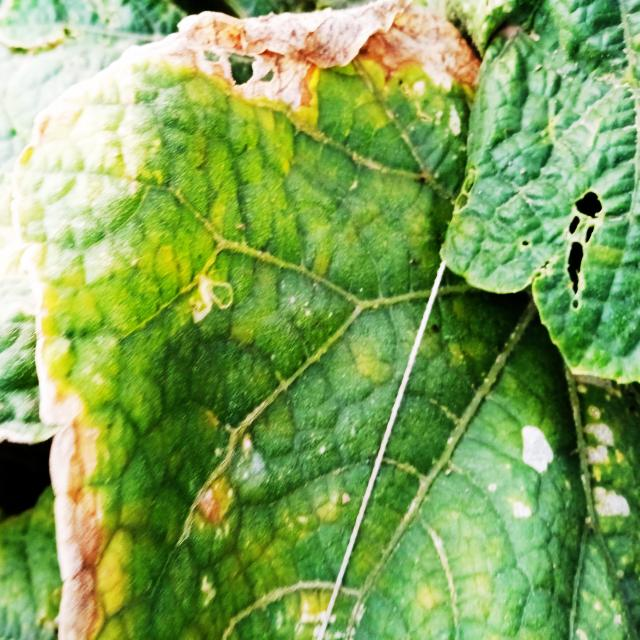Gummy-Stem-Blight: (162, 1, 482, 109), (36, 311, 102, 637)
